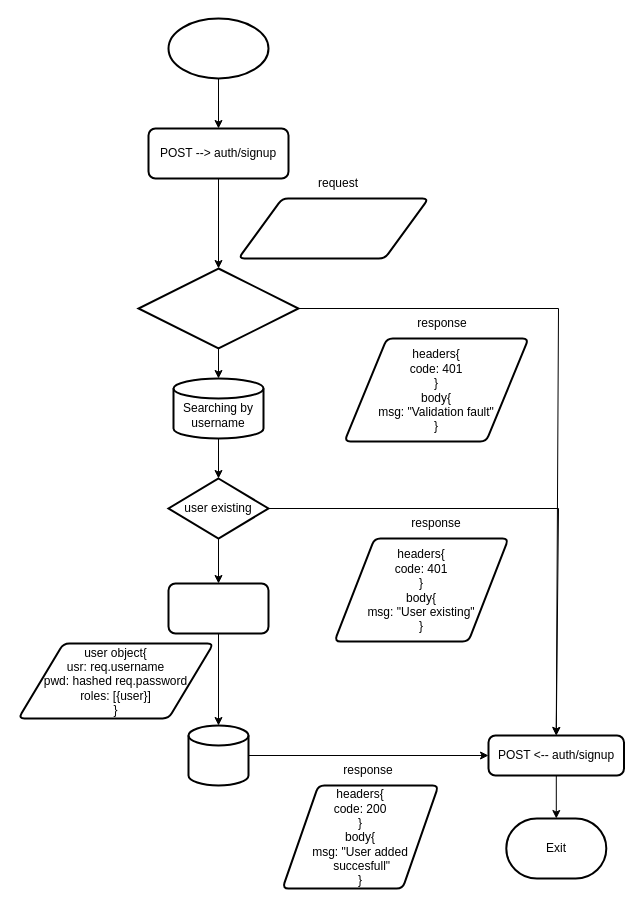
Some shapes in this 642 by 906 pixel diagram are drawn without their labels. Each missing label, with the box of its shape:
Body{ username: string password: string }: (237, 197, 429, 259)
Enter: (167, 17, 269, 79)
Hashing password: (167, 582, 269, 634)
username, password validation: (137, 267, 299, 349)
write new user: (187, 724, 249, 786)
